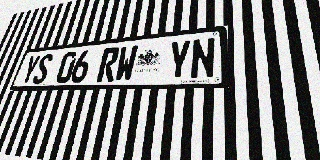0: (55, 51, 78, 83)
6: (69, 50, 93, 83)
N: (190, 37, 215, 79)
R: (96, 47, 120, 82)
S: (31, 54, 54, 84)
W: (114, 45, 138, 82)
Y: (166, 40, 191, 80), (19, 55, 41, 85)
